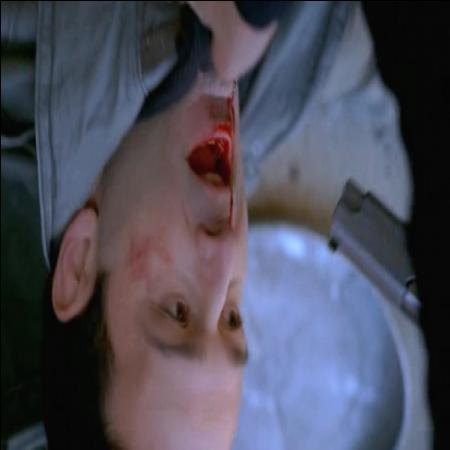Pistol: (328, 170, 447, 355)
